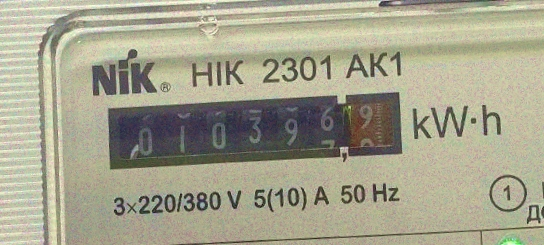0: (205, 117, 230, 152), (132, 123, 155, 157)
1: (173, 120, 189, 154)
3: (244, 112, 264, 147)
6: (314, 103, 338, 133)
9: (278, 114, 301, 148), (352, 101, 376, 132)
screen: (89, 72, 414, 190)
